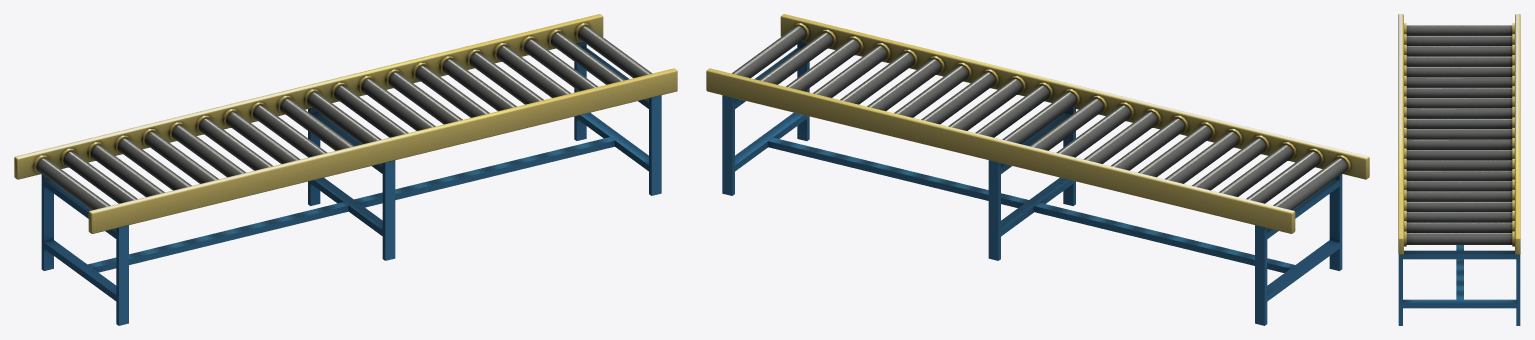
Rendered from machine.serva.147.obj.
The picture shows the model from 3 angles, left to right: view 1: azimuth 30°, elevation 25°; view 2: azimuth 150°, elevation 25°; view 3: azimuth 270°, elevation 25°; orthographic projection. The views are drawn at different scales.
Visible parts, largest first — view 1: chuanshuji; view 2: chuanshuji; view 3: chuanshuji.
Part boxes in pixels (x1,y1,x2,y2): chuanshuji: (14,14,677,325); chuanshuji: (706,14,1369,325); chuanshuji: (1398,14,1520,325).
Bounding box in the file's own units: 433 × 84.27 × 99.46.
